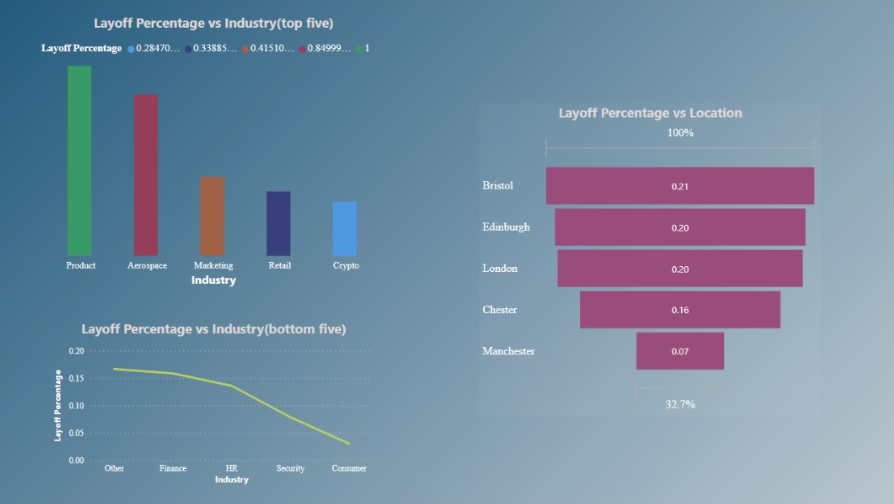

This screenshot's page, from the dashboard's own definition file:
{"tool":"powerbi","page":{"name":"UK","canvas":[1280,720],"ordinal":4},"visuals":[{"type":"ribbonChart","title":"Layoff Percentage vs Industry(top five)","fields":{"Category":["United_Kingdom_industry_wise_layoff_percentage_top_five.Industry"],"Y":["Max(United_Kingdom_industry_wise_layoff_percentage_top_five.Layoff Percentage)"],"Series":["United_Kingdom_industry_wise_layoff_percentage_top_five.Layoff Percentage"]},"box":[58.8,20,501.2,393.8],"z":0},{"type":"funnel","title":"Layoff Percentage vs Location","fields":{"Category":["United_Kingdom_location_wise_layoff_percentage.Location_HQ"],"Y":["Max(United_Kingdom_location_wise_layoff_percentage.Layoff Percentage)"]},"box":[687.5,147.5,487.5,446.2],"z":1000},{"type":"lineChart","title":"Layoff Percentage vs Industry(bottom five)","fields":{"Category":["United_Kingdom_industry_wise_layoff_percentage_bottom_five.Industry"],"Y":["Max(United_Kingdom_industry_wise_layoff_percentage_bottom_five.Layoff Percentage)"]},"box":[77.5,456.2,463.8,240],"z":2000}]}

Visuals, with their boxes in screenshot pixels (x1, y1, x2, y2), scaled from the page's 1280x720 canvas onto the 894x504 screenshot:
"Layoff Percentage vs Industry(top five)" ribbonChart: (left=41, top=14, right=391, bottom=290)
"Layoff Percentage vs Location" funnel: (left=480, top=103, right=821, bottom=416)
"Layoff Percentage vs Industry(bottom five)" lineChart: (left=54, top=319, right=378, bottom=487)
